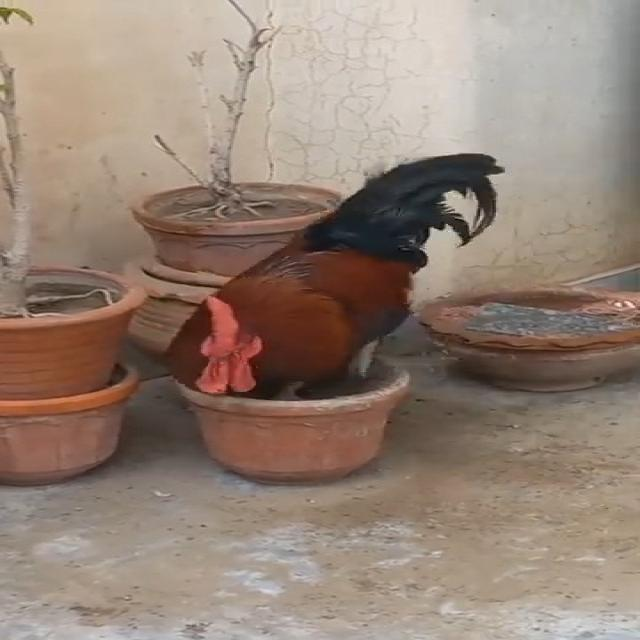stand bath: (178, 154, 530, 402)
